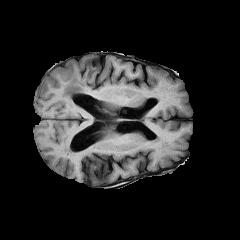glioma: (61, 63, 96, 108)
